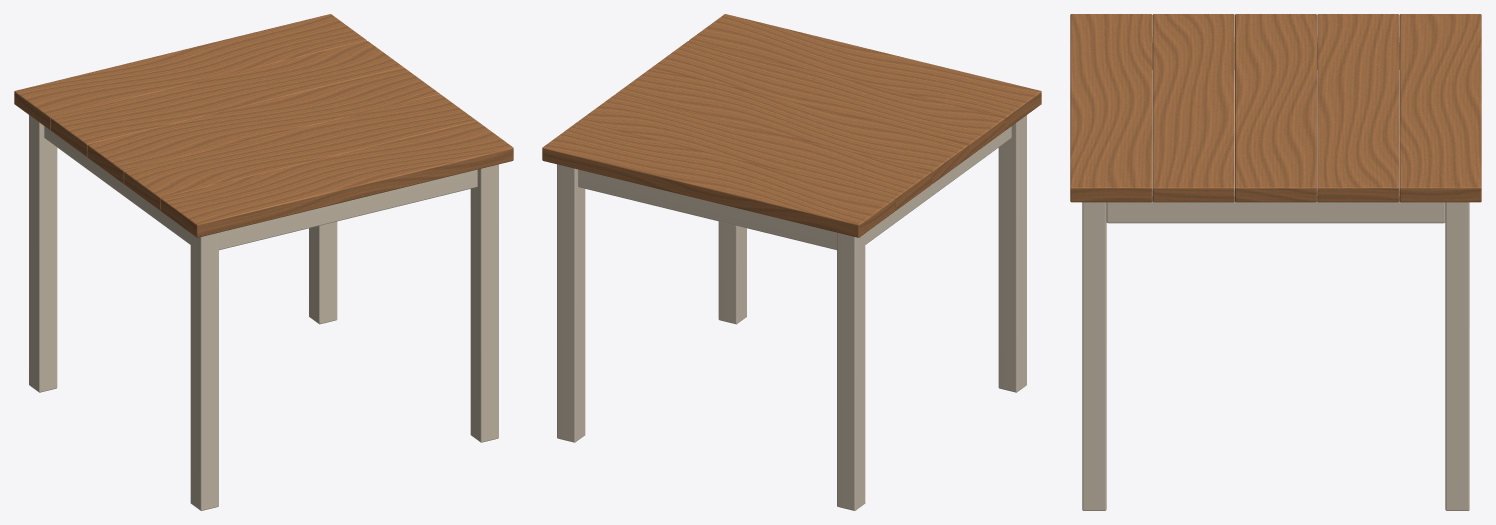
Rendered from Restaurant_Table.fbx.
3 renders of one model, left to right at view 1: azimuth 30°, elevation 25°; view 2: azimuth 150°, elevation 25°; view 3: azimuth 270°, elevation 25°, orthographic. The views are drawn at different scales.
Parts seen in each view (by area): view 1: Tabletop plank, Tabletop plank.001, Tabletop plank.004, Tabletop plank.002, Tabletop plank.003, Painted leg, Painted leg.002, Painted leg.001, End apron, Painted leg.003, Side apron; view 2: Tabletop plank.004, Tabletop plank, Tabletop plank.003, Tabletop plank.002, Tabletop plank.001, Painted leg.001, Painted leg.003, Painted leg, End apron.001, Painted leg.002, Side apron; view 3: Tabletop plank, Tabletop plank.001, Tabletop plank.003, Tabletop plank.004, Tabletop plank.002, Painted leg.002, Painted leg.003, Side apron.001.
Boxes of the visible parts, x1,y1,x2,y2 form: Tabletop plank: (160, 121, 513, 237); Tabletop plank.001: (124, 94, 476, 210); Tabletop plank.004: (14, 14, 366, 130); Tabletop plank.002: (87, 67, 439, 183); Tabletop plank.003: (51, 41, 403, 157); Painted leg: (190, 232, 218, 510); Painted leg.002: (470, 164, 498, 442); Painted leg.001: (29, 115, 57, 392); End apron: (219, 169, 477, 250); Painted leg.003: (309, 221, 337, 324); Side apron: (44, 126, 190, 244); Tabletop plank.004: (542, 121, 895, 237); Tabletop plank: (689, 14, 1041, 130); Tabletop plank.003: (579, 94, 931, 210); Tabletop plank.002: (616, 67, 968, 183); Tabletop plank.001: (652, 41, 1004, 157); Painted leg.001: (837, 232, 865, 510); Painted leg.003: (557, 164, 585, 442); Painted leg: (998, 115, 1026, 392); End apron.001: (578, 169, 836, 250); Painted leg.002: (718, 221, 746, 324); Side apron: (865, 126, 1011, 244); Tabletop plank: (1070, 14, 1152, 202); Tabletop plank.001: (1152, 14, 1234, 202); Tabletop plank.003: (1317, 14, 1399, 202); Tabletop plank.004: (1399, 14, 1481, 202); Tabletop plank.002: (1235, 14, 1316, 202); Painted leg.002: (1082, 202, 1106, 510); Painted leg.003: (1445, 202, 1469, 510); Side apron.001: (1106, 190, 1445, 223).
Size of the model in its own units: 85 by 75 by 84.98.
2 materials, 1 textured.
